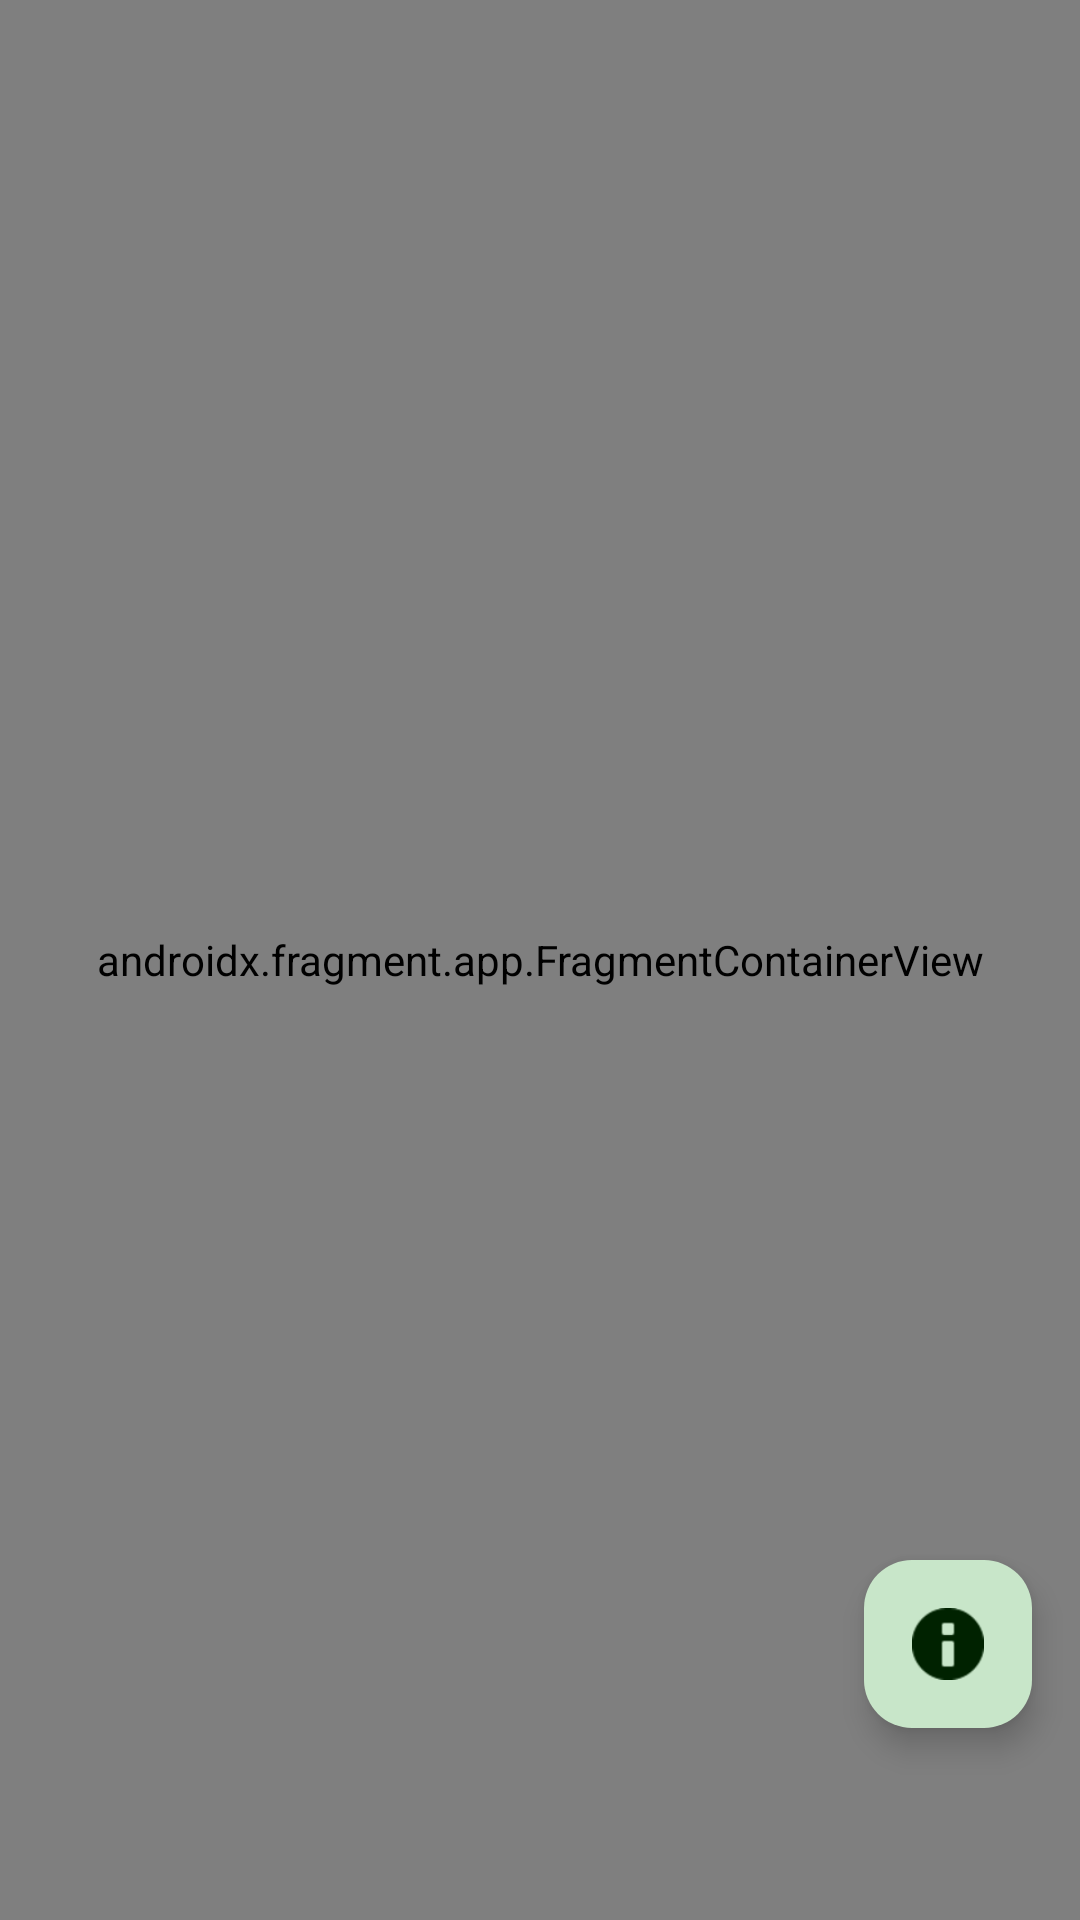

Icon bounding boxes for this 1080px×1920px phone screenshot, format (x1, y1, x2, y2):
info: (864, 1560, 1032, 1728)
